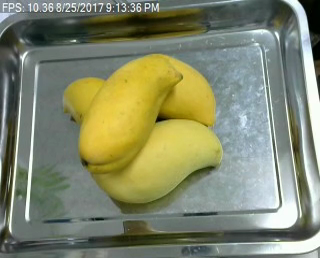Mango: (77, 55, 183, 174), (90, 119, 223, 203), (144, 52, 220, 124), (61, 73, 115, 121)
